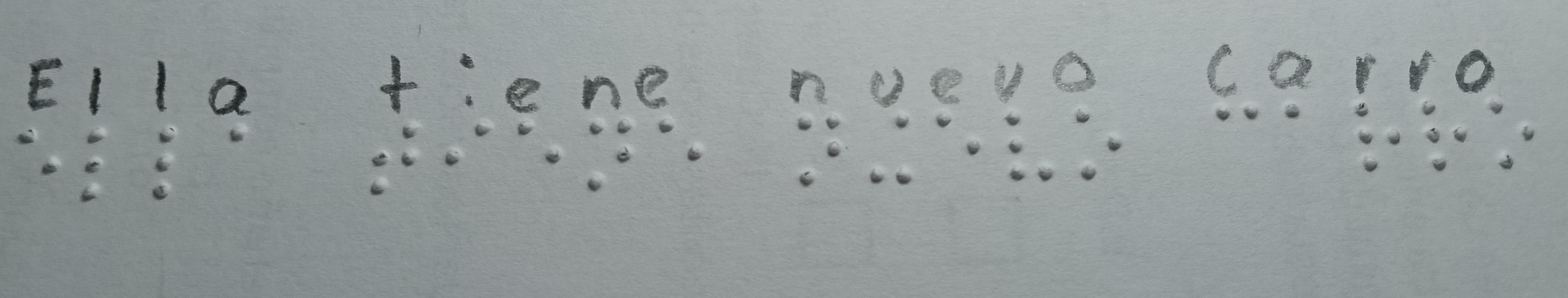a: (1278, 88, 1312, 148), (215, 121, 257, 159)
c: (1199, 86, 1262, 154)
e: (644, 111, 711, 179), (13, 113, 69, 192), (509, 115, 563, 190), (924, 108, 982, 173)
i: (444, 108, 496, 184)
l: (144, 123, 188, 217), (77, 117, 110, 213)
n: (776, 109, 855, 190), (582, 106, 636, 204)
o: (1066, 102, 1126, 190), (1478, 100, 1537, 179)
r: (1334, 102, 1409, 182), (1416, 98, 1470, 175)
t: (361, 109, 429, 207)
u: (861, 111, 919, 198)
v: (986, 106, 1059, 196)
